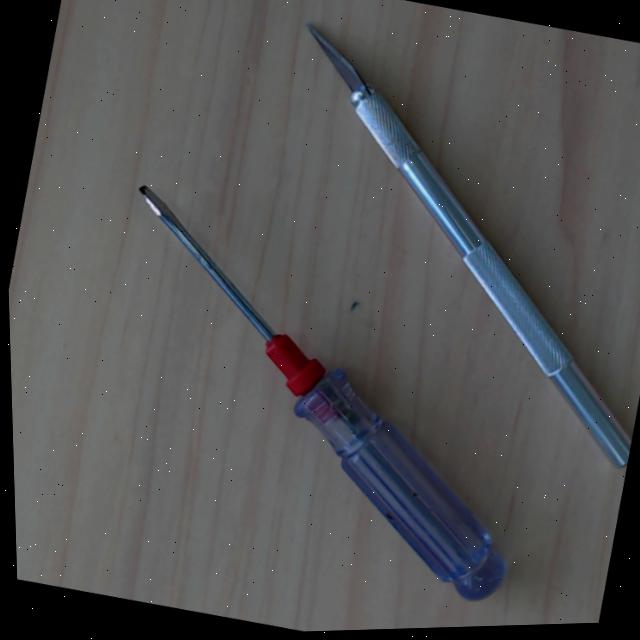Obeng-Kecil: (115, 164, 520, 613)
